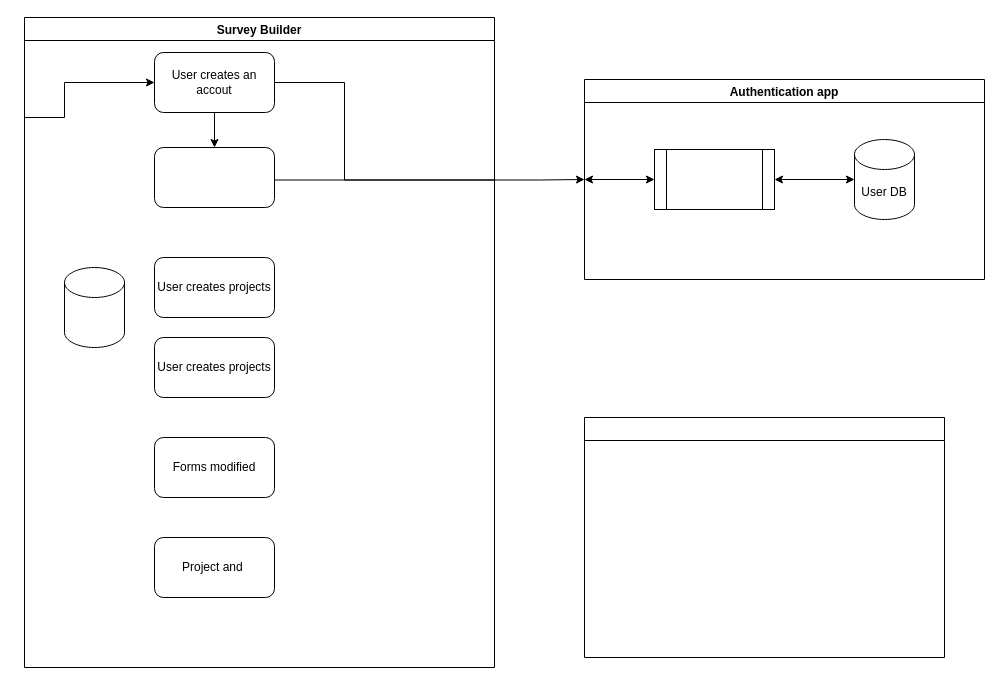
The diagram is 1002 pixels wide and 685 high, and some of its shapes have lost their labels. Each missing label, with the centre of its shape:
"Authentication API" goes at (714,179).
"RHoMIS Server" goes at (764,537).
"Survey Build DB" goes at (94,307).
"User logs in" goes at (214,177).
